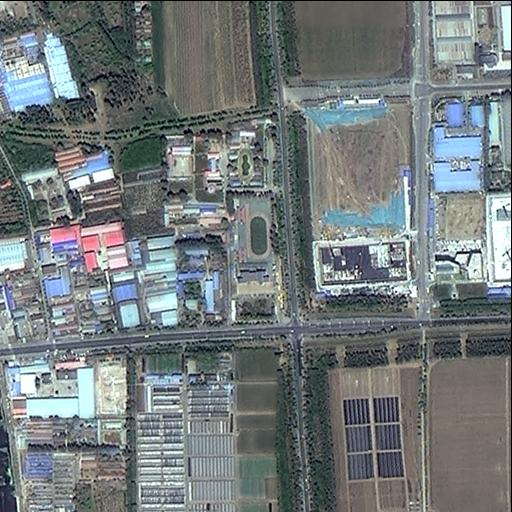school: (229, 189, 278, 323)
